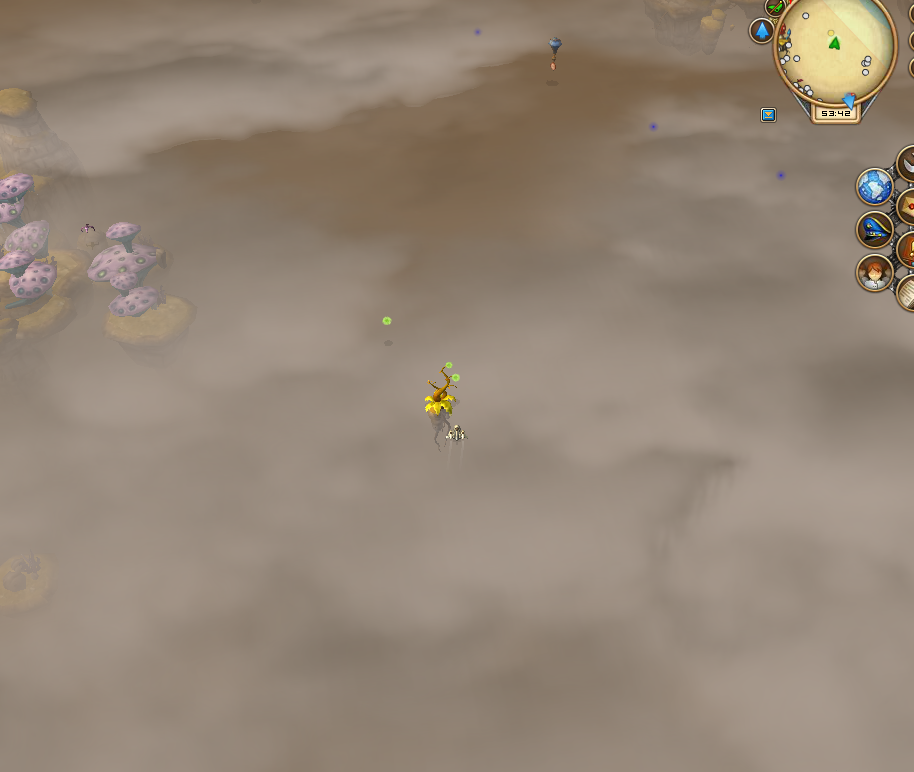dandelion-full: (417, 353, 459, 436)
fluff: (372, 303, 395, 330)
